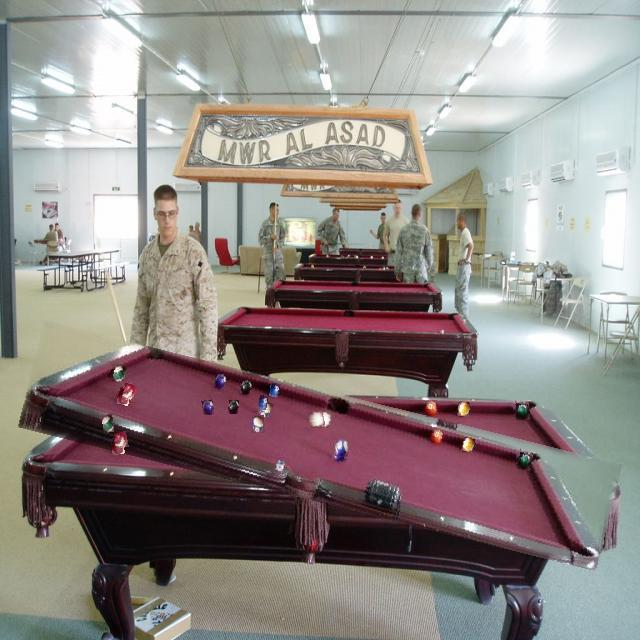Ball: (308, 410, 325, 428), (334, 438, 349, 457), (251, 415, 265, 433), (115, 431, 129, 449), (111, 437, 125, 454), (516, 403, 529, 420), (457, 401, 470, 417), (425, 401, 438, 417), (102, 415, 113, 433), (202, 400, 213, 415), (257, 396, 268, 410), (229, 400, 239, 414)
Billiard table: (20, 356, 620, 536)
